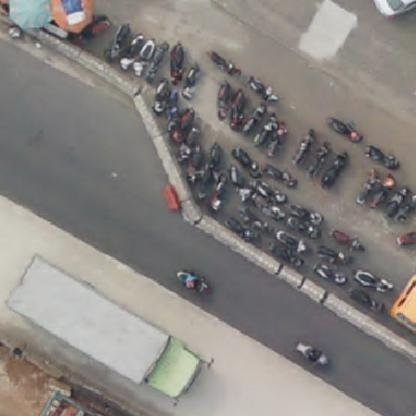Car: (6, 254, 212, 408), (370, 0, 416, 28)
Motorcycle: (206, 46, 242, 84), (346, 287, 388, 317), (328, 115, 364, 147), (296, 339, 332, 369), (245, 75, 279, 106), (353, 269, 395, 294), (313, 261, 353, 287), (226, 214, 256, 248), (332, 226, 367, 254), (270, 242, 306, 268), (363, 146, 399, 171), (176, 269, 212, 294), (251, 192, 283, 220), (106, 22, 128, 62), (231, 146, 260, 176), (263, 164, 299, 188), (252, 180, 288, 204), (170, 105, 192, 144), (214, 78, 234, 120), (316, 244, 352, 267), (294, 127, 316, 164), (287, 218, 323, 239), (121, 34, 142, 70), (278, 228, 309, 252), (136, 30, 152, 76), (230, 87, 248, 127), (371, 174, 391, 210), (324, 154, 346, 186), (240, 209, 268, 233), (292, 204, 324, 224), (245, 105, 266, 135), (256, 116, 276, 147), (168, 38, 182, 82), (150, 37, 164, 80), (311, 140, 327, 176), (181, 61, 195, 102), (209, 174, 224, 212), (186, 146, 200, 186), (386, 184, 402, 219), (267, 124, 285, 155), (398, 191, 415, 222), (356, 174, 376, 200), (195, 162, 209, 196), (182, 127, 194, 161), (166, 89, 178, 121), (394, 232, 416, 249), (228, 166, 244, 188), (154, 77, 164, 110), (205, 142, 217, 168), (170, 106, 180, 128)
